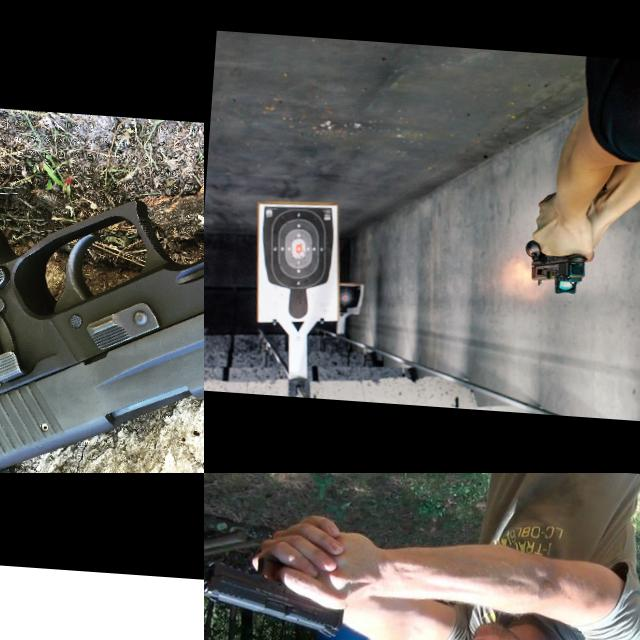handgun: (0, 120, 204, 473), (204, 547, 350, 640), (43, 573, 204, 640), (520, 248, 588, 298)
